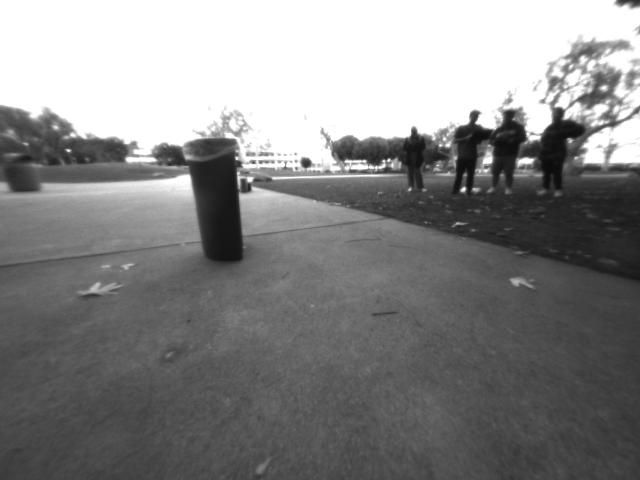trashcan_open: (180, 135, 252, 265)
